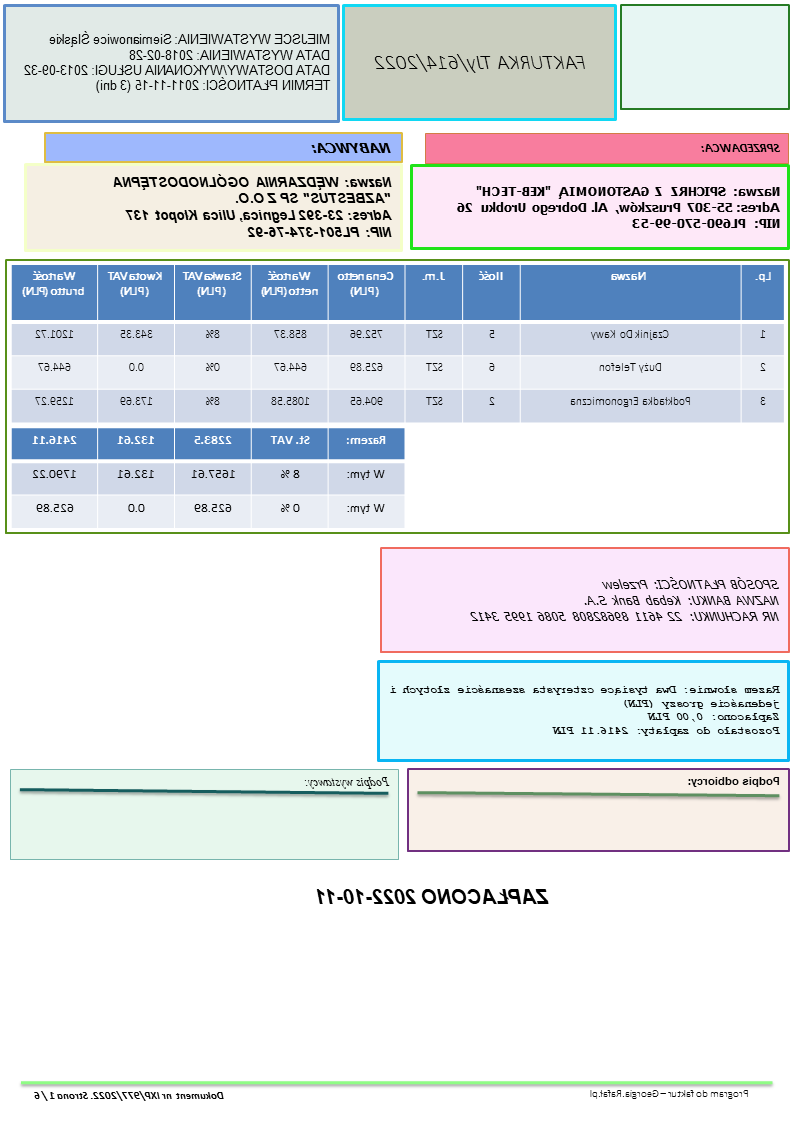Table: (11, 263, 786, 423), (10, 426, 406, 529)
TextBox: (390, 683, 782, 738), (22, 30, 333, 96), (111, 173, 395, 239), (456, 183, 782, 232), (469, 575, 783, 624), (314, 884, 552, 907), (374, 52, 589, 73), (33, 1089, 227, 1103), (588, 1087, 752, 1101), (304, 772, 393, 791), (686, 773, 783, 790), (700, 139, 784, 157), (310, 139, 394, 156)
